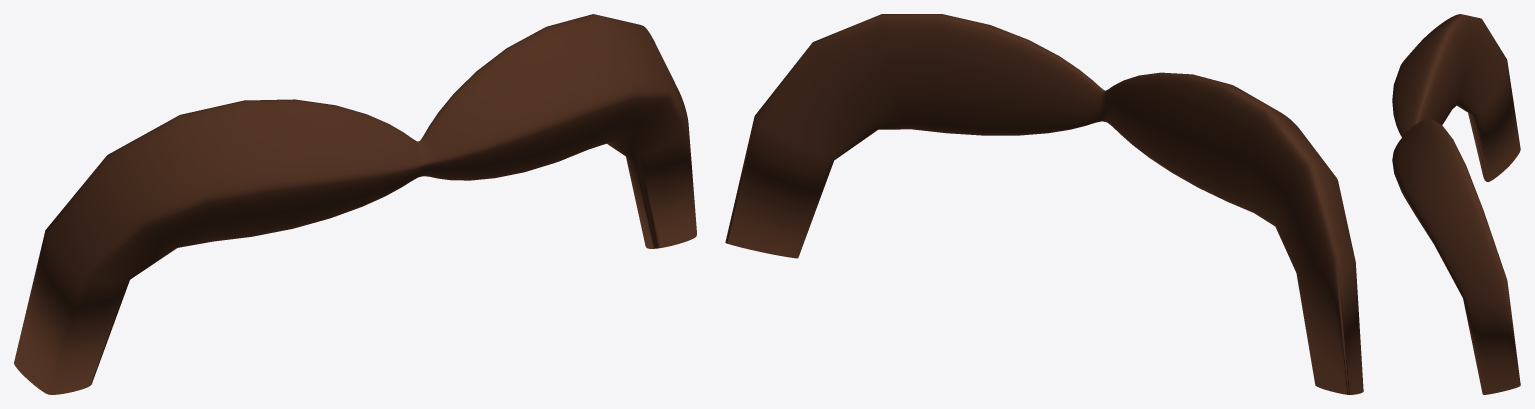
3 renders of one model, left to right at view 1: azimuth 30°, elevation 25°; view 2: azimuth 150°, elevation 25°; view 3: azimuth 270°, elevation 25°, orthographic. The views are drawn at different scales.
Visible parts, largest first — view 1: beardMustacheHogan; view 2: beardMustacheHogan; view 3: beardMustacheHogan.
Part boxes in pixels (left/top/right/bottom): beardMustacheHogan: left=14, top=14, right=696, bottom=394; beardMustacheHogan: left=725, top=14, right=1363, bottom=394; beardMustacheHogan: left=1392, top=14, right=1520, bottom=394.
Bounding box in the file's own units: 0.2332 × 0.0904 × 0.053.
1 material, 1 textured.
